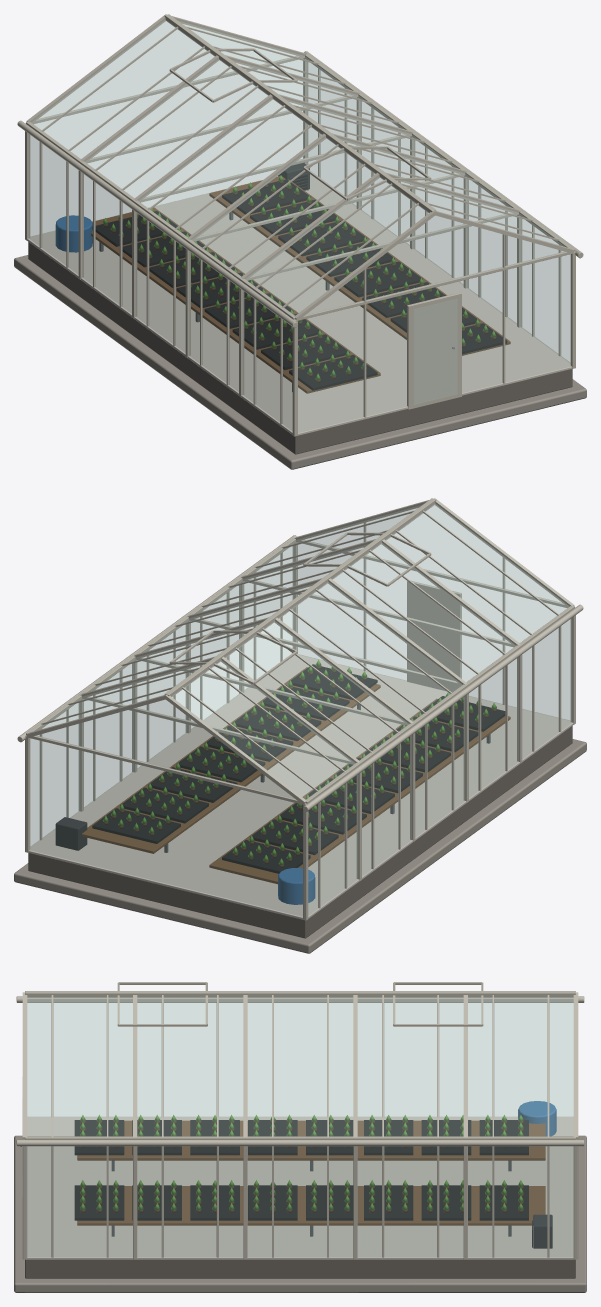
The model's file is bd_greenhouse.glb.
The picture shows the model from 3 angles, top to bottom: view 1: azimuth 30°, elevation 25°; view 2: azimuth 150°, elevation 25°; view 3: azimuth 270°, elevation 25°; orthographic projection. The views are drawn at different scales.
Visible parts, largest first — view 1: prism, block.003, block.002, block.001, block.051, block.052, block.053, block.068, block.048, cyl.001, block.035, block.022 (+45 smaller); view 2: prism, block.003, block.002, block.001, block.051, block.068, block.053, block.048, cyl.001, block.035, block.022, block.075 (+44 smaller); view 3: prism, block.003, block.001, block.002, block.068, cyl.002, block.053, block.048, block.022, block.035, block.082, block.079 (+31 smaller).
Boxes of the visible parts, bbox=[...] form: prism: bbox=[29, 20, 570, 432]; block.003: bbox=[27, 174, 572, 435]; block.002: bbox=[28, 242, 572, 454]; block.001: bbox=[14, 255, 586, 469]; block.051: bbox=[407, 292, 461, 409]; block.052: bbox=[413, 299, 457, 404]; block.053: bbox=[91, 207, 380, 393]; block.068: bbox=[209, 176, 510, 355]; block.048: bbox=[164, 14, 436, 212]; cyl.001: bbox=[17, 120, 297, 327]; block.035: bbox=[304, 53, 574, 251]; block.022: bbox=[26, 122, 295, 319]; prism: bbox=[30, 504, 571, 916]; block.003: bbox=[28, 654, 573, 919]; block.002: bbox=[28, 726, 572, 938]; block.001: bbox=[14, 739, 586, 953]; block.051: bbox=[407, 581, 461, 692]; block.068: bbox=[82, 667, 380, 853]; block.053: bbox=[209, 698, 510, 884]; block.048: bbox=[164, 498, 436, 696]; cyl.001: bbox=[303, 604, 583, 811]; block.035: bbox=[26, 537, 296, 735]; block.022: bbox=[305, 606, 574, 803]; block.075: bbox=[92, 808, 180, 843]; prism: bbox=[27, 997, 573, 1256]; block.003: bbox=[27, 1116, 573, 1259]; block.001: bbox=[14, 1135, 586, 1292]; block.002: bbox=[25, 1259, 575, 1278]; block.068: bbox=[77, 1186, 545, 1225]; cyl.002: bbox=[16, 1139, 584, 1146]; block.053: bbox=[77, 1120, 545, 1160]; block.048: bbox=[25, 991, 575, 997]; block.022: bbox=[27, 998, 573, 1002]; block.035: bbox=[25, 1136, 575, 1139]; block.082: bbox=[74, 1185, 124, 1220]; block.079: bbox=[248, 1185, 297, 1220].
Bounding box in the file's own units: 6.4 × 4.55 × 10.4.
